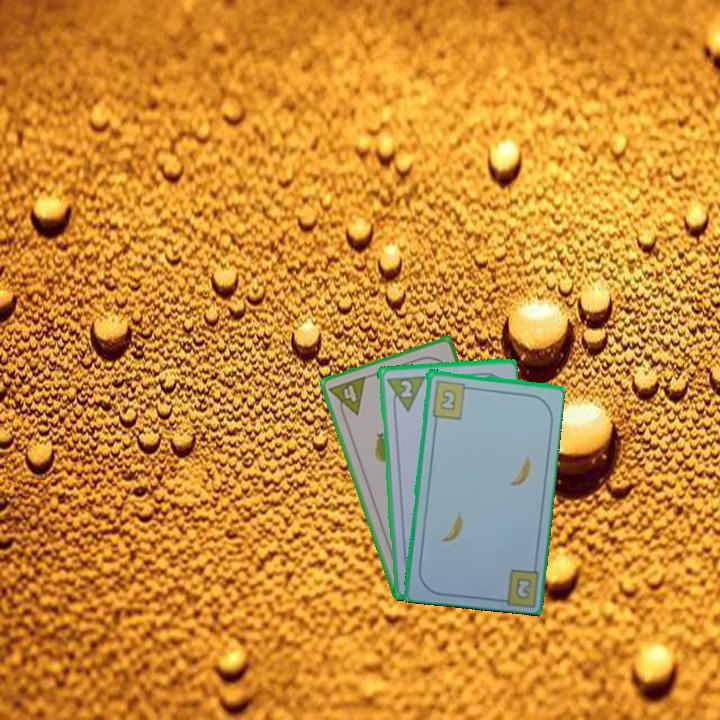2b: (428, 377, 474, 421), (512, 574, 534, 602)
2p: (382, 372, 427, 415)
4p: (325, 372, 369, 422)
